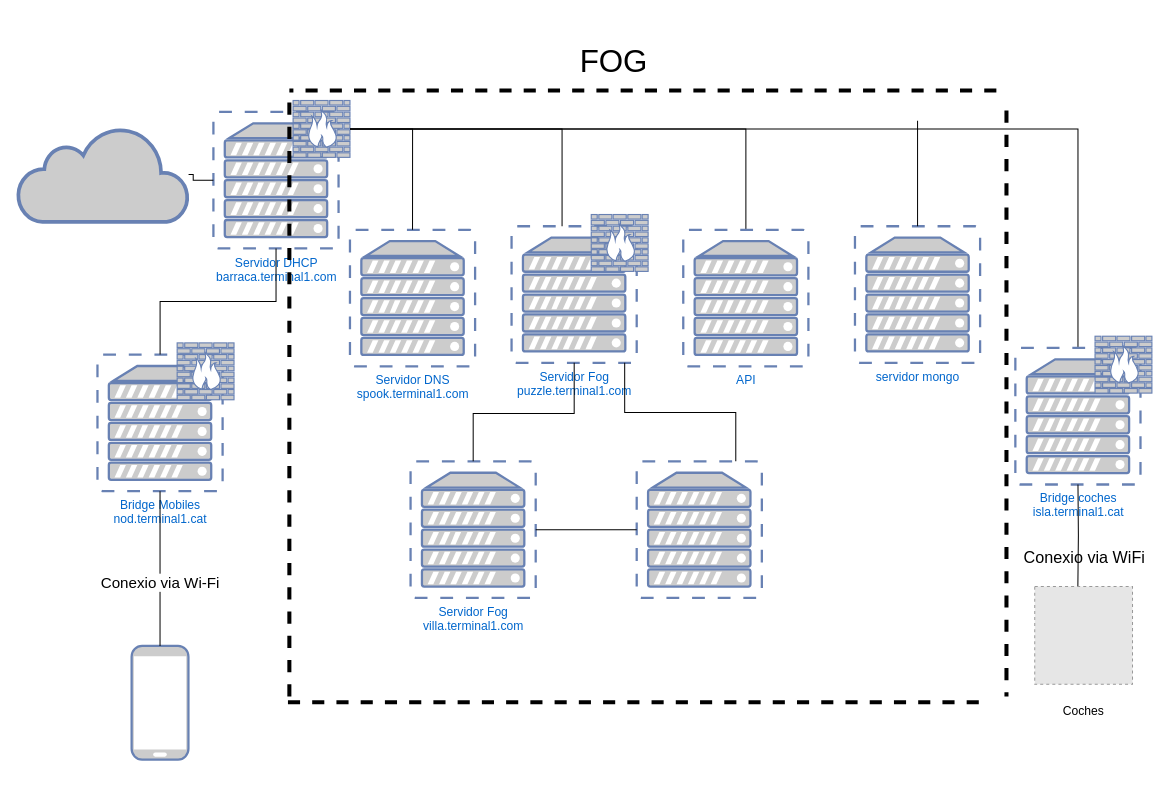
Image size: 1171x798. Some labels were removed from this diagram. Grey dashed boxes stand in for pictures. Here are the shapes that lost their labels. From the top down, the centre of each, then its label:
the point at 102,174: INTERNET
the point at 698,529: Servidor Fog heaven.terminal1.com
the point at 159,702: Mobil1
